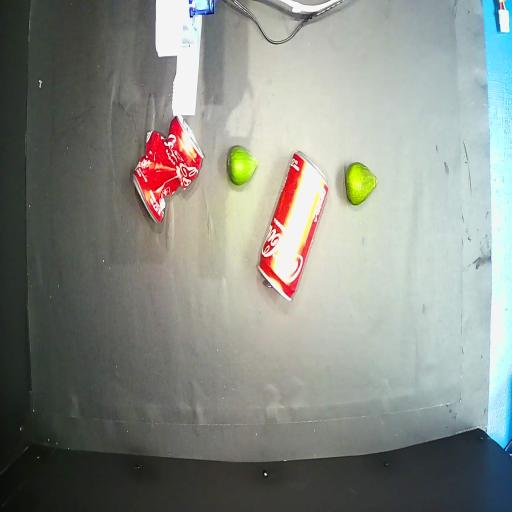higo: (345, 162, 377, 205), (227, 146, 257, 185)
lata: (258, 152, 328, 300)
lata_defectuoso: (133, 116, 203, 222)
